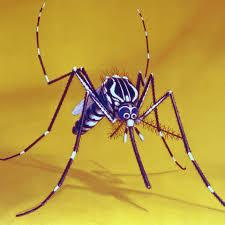insect: (0, 0, 225, 219)
